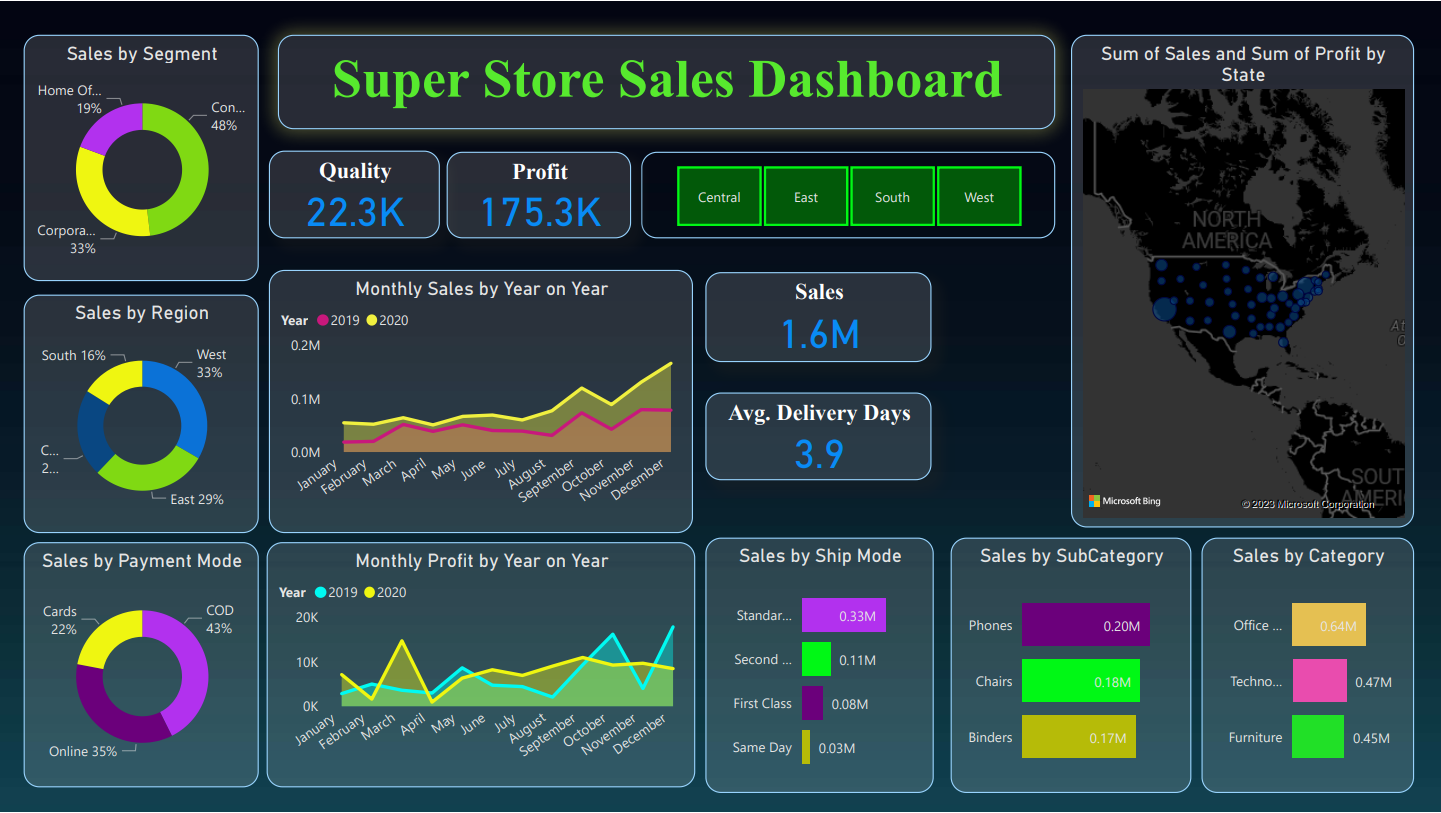

This screenshot's page, from the dashboard's own definition file:
{"tool":"powerbi","page":{"name":"Page 1","canvas":[1280,720],"ordinal":0},"visuals":[{"type":"clusteredBarChart","title":"Sales by Category","fields":{"Category":["SuperStore_Sales_Dataset.Category"],"Y":["Sum(SuperStore_Sales_Dataset.Sales)"]},"box":[1067.8,476.5,189,227.2],"z":0},{"type":"clusteredBarChart","title":"Sales by SubCategory","fields":{"Category":["SuperStore_Sales_Dataset.Sub-Category","SuperStore_Sales_Dataset.Category"],"Y":["Sum(SuperStore_Sales_Dataset.Sales)"]},"box":[845.2,476.5,213.3,227.2],"z":1000},{"type":"clusteredBarChart","title":"Sales by Ship Mode","fields":{"Category":["SuperStore_Sales_Dataset.Ship Mode"],"Y":["Sum(SuperStore_Sales_Dataset.Sales)"]},"box":[627.2,476.5,202.9,227.2],"z":2000},{"type":"areaChart","title":"Monthly Sales by Year on Year","fields":{"Category":["SuperStore_Sales_Dataset.Order Date.Variation.Date Hierarchy.Month","SuperStore_Sales_Dataset.Order Date.Variation.Date Hierarchy.Day"],"Y":["Sum(SuperStore_Sales_Dataset.Sales)"],"Series":["SuperStore_Sales_Dataset.Order Date.Variation.Date Hierarchy.Year"]},"box":[238.8,238.8,376.8,234.2],"z":3000},{"type":"areaChart","title":"Monthly Profit by Year on Year","fields":{"Category":["SuperStore_Sales_Dataset.Order Date.Variation.Date Hierarchy.Month","SuperStore_Sales_Dataset.Order Date.Variation.Date Hierarchy.Day"],"Series":["SuperStore_Sales_Dataset.Order Date.Variation.Date Hierarchy.Year"],"Y":["Sum(SuperStore_Sales_Dataset.Profit)"]},"box":[236.5,481.2,381.4,218],"z":4000},{"type":"map","fields":{"Category":["SuperStore_Sales_Dataset.State"],"Size":["Sum(SuperStore_Sales_Dataset.Sales)"]},"box":[951.9,30.1,304.9,438.3],"z":5000},{"type":"donutChart","title":"Sales by Segment","fields":{"Category":["SuperStore_Sales_Dataset.Segment"],"Y":["Sum(SuperStore_Sales_Dataset.Sales)"]},"box":[20.9,30.1,208.7,219.1],"z":6000},{"type":"donutChart","title":"Sales by Payment Mode","fields":{"Category":["SuperStore_Sales_Dataset.Payment Mode"],"Y":["Sum(SuperStore_Sales_Dataset.Sales)"]},"box":[20.9,481.2,208.7,218],"z":7000},{"type":"slicer","fields":{"Values":["SuperStore_Sales_Dataset.Region"]},"box":[570.4,134.5,367.5,76.5],"z":8000},{"type":"textbox","box":[247,30.1,691,83.5],"z":9000},{"type":"card","title":"Sales","fields":{"Values":["Sum(SuperStore_Sales_Dataset.Sales)"]},"box":[627.2,241.2,200.6,80],"z":10000},{"type":"card","title":"Quality","fields":{"Values":["Sum(SuperStore_Sales_Dataset.Quantity)"]},"box":[238.8,133.3,151.9,77.7],"z":11000},{"type":"card","title":"Profit","fields":{"Values":["Sum(SuperStore_Sales_Dataset.Profit)"]},"box":[396.5,134.5,164.6,76.5],"z":12000},{"type":"card","title":"Avg. Delivery Days","fields":{"Values":["Avg(SuperStore_Sales_Dataset.Average Delivary)"]},"box":[627.2,347.8,200.6,77.7],"z":13000},{"type":"donutChart","title":"Sales by Region","fields":{"Category":["SuperStore_Sales_Dataset.Region"],"Y":["Sum(SuperStore_Sales_Dataset.Sales)"]},"box":[20.9,260.9,208.7,212.2],"z":14000}]}

Visuals, with their boxes in screenshot pixels (x1, y1, x2, y2), scaled from the page's 1280x720 canvas onto the 1441x813 screenshot:
"Sales by Category" clusteredBarChart: l=1202, t=538, r=1415, b=795
"Sales by SubCategory" clusteredBarChart: l=952, t=538, r=1192, b=795
"Sales by Ship Mode" clusteredBarChart: l=706, t=538, r=935, b=795
"Monthly Sales by Year on Year" areaChart: l=269, t=270, r=693, b=534
"Monthly Profit by Year on Year" areaChart: l=266, t=543, r=696, b=790
map - SuperStore_Sales_Dataset.State x Sum(SuperStore_Sales_Dataset.Sales): l=1072, t=34, r=1415, b=529
"Sales by Segment" donutChart: l=24, t=34, r=258, b=281
"Sales by Payment Mode" donutChart: l=24, t=543, r=258, b=790
slicer - SuperStore_Sales_Dataset.Region: l=642, t=152, r=1056, b=238
textbox: l=278, t=34, r=1056, b=128
"Sales" card: l=706, t=272, r=932, b=363
"Quality" card: l=269, t=151, r=440, b=238
"Profit" card: l=446, t=152, r=632, b=238
"Avg. Delivery Days" card: l=706, t=393, r=932, b=480
"Sales by Region" donutChart: l=24, t=295, r=258, b=534
